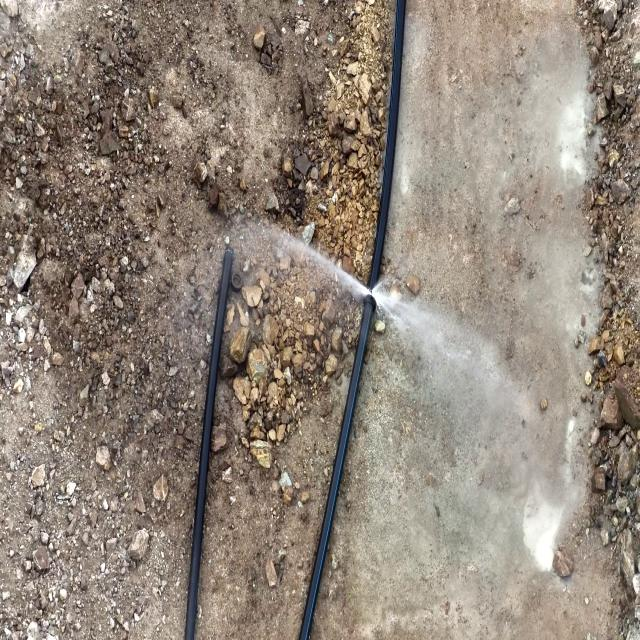leak: (262, 219, 419, 347)
